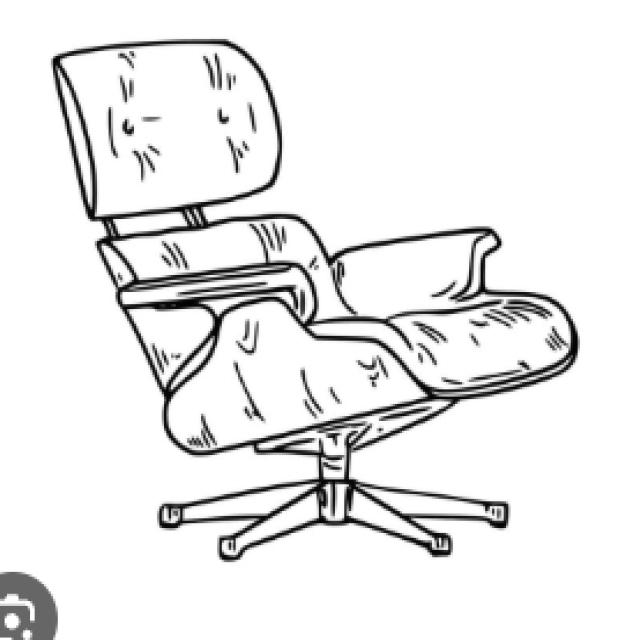Backrest: (95, 214, 355, 394)
Eames_base: (156, 476, 519, 566)
Eames_lounge: (328, 224, 501, 315), (117, 261, 318, 331)
Headrest: (50, 39, 285, 222)
Seat: (160, 290, 580, 457)
